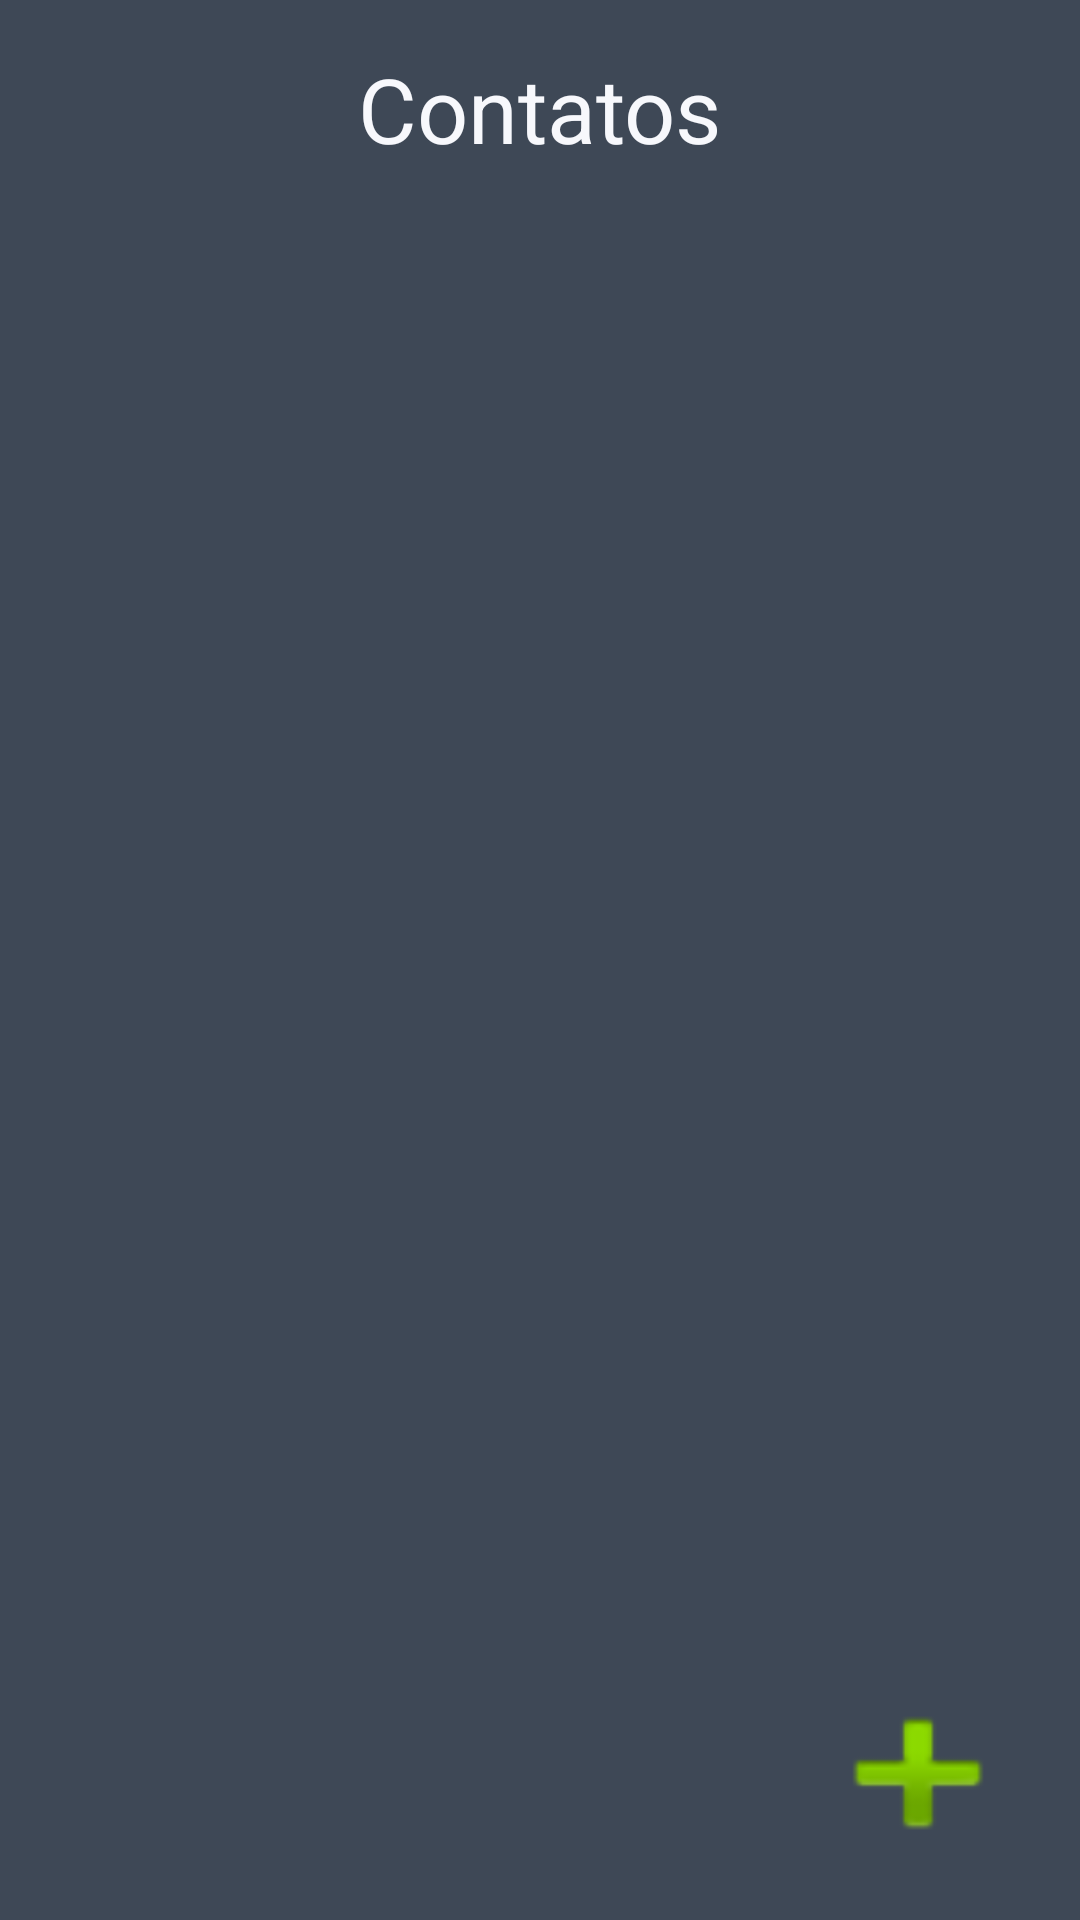

Icons on this 1080×1920 Android screen, each with the point to tap as [x,y]:
add: [918,1773]
